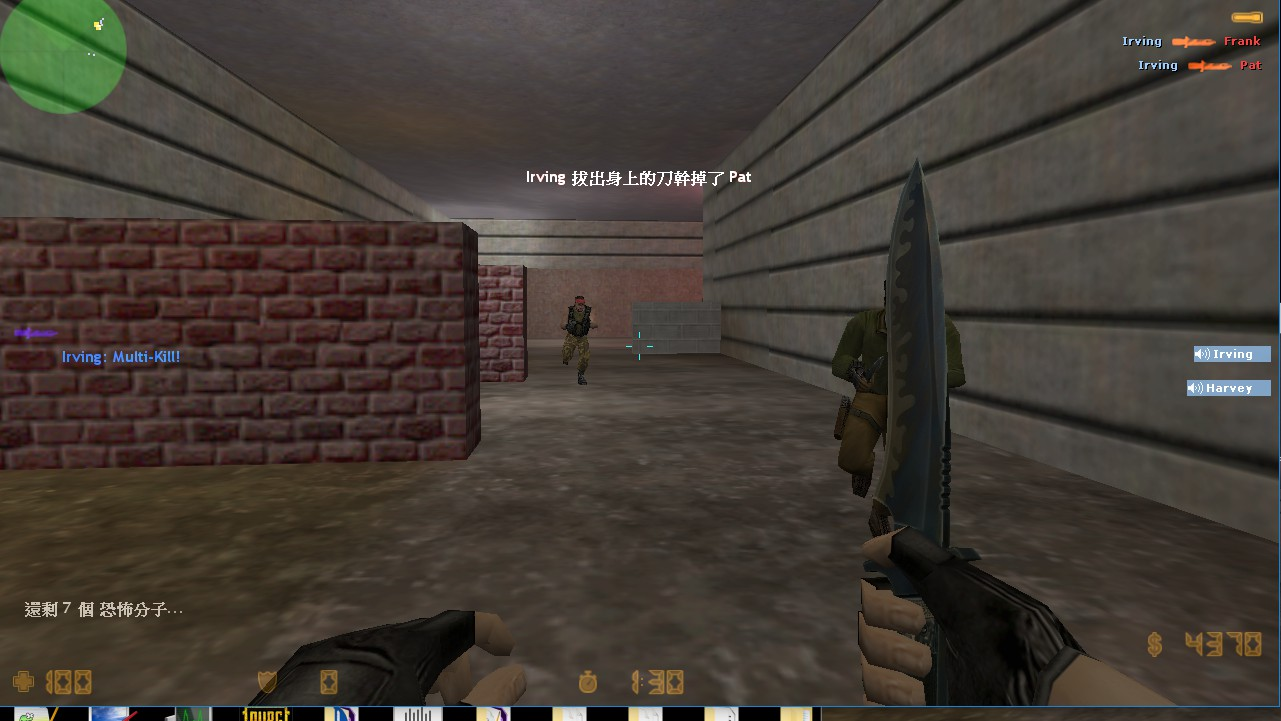person: (557, 295, 602, 394)
